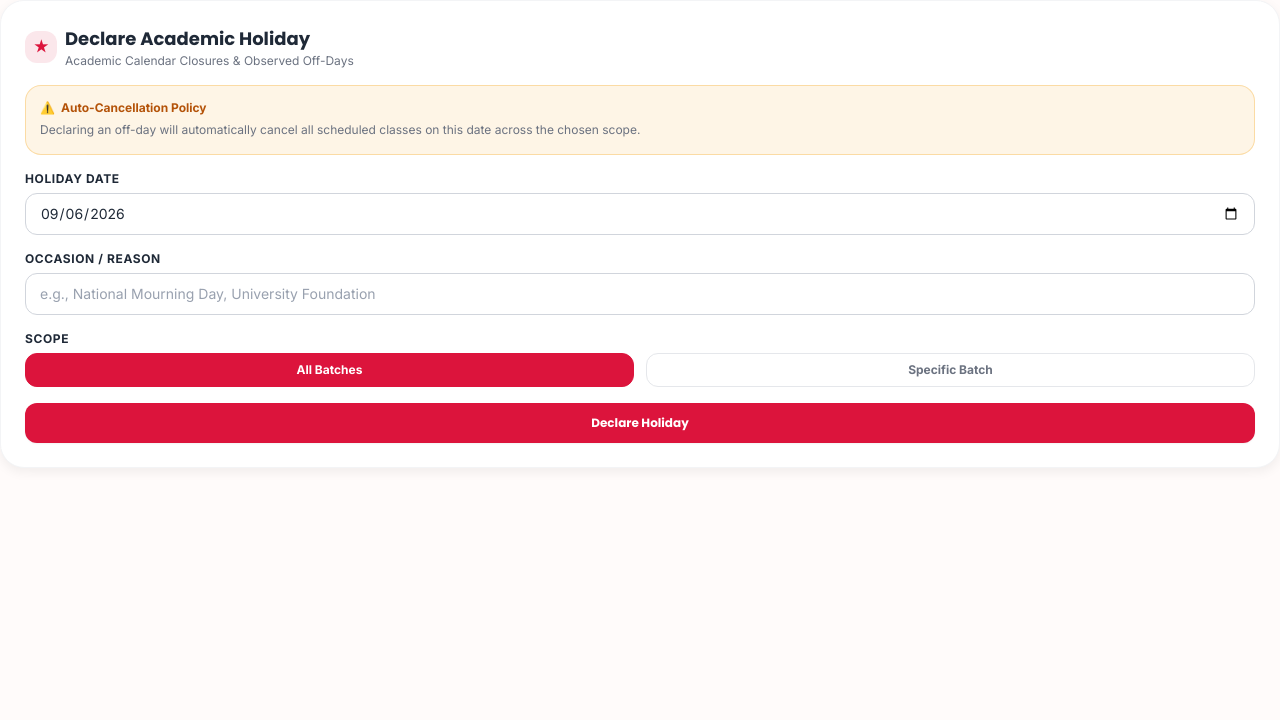
Test case: HolidayDeclarationForm Component › submits holiday declaration successfully
In the field labelled "Occasion / Reason": (640, 294) [25,272,1255,314], type "Foundation Day"
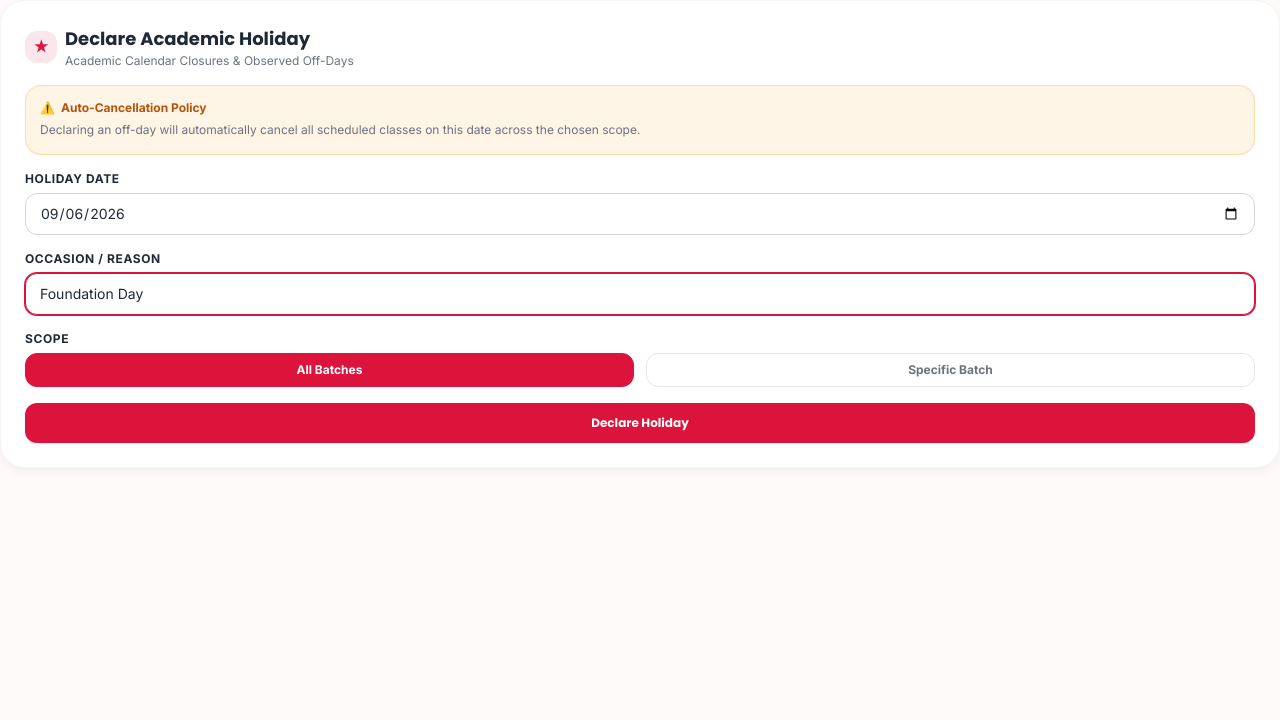
Click the button "Declare Holiday": (640, 422) [25,402,1255,442]
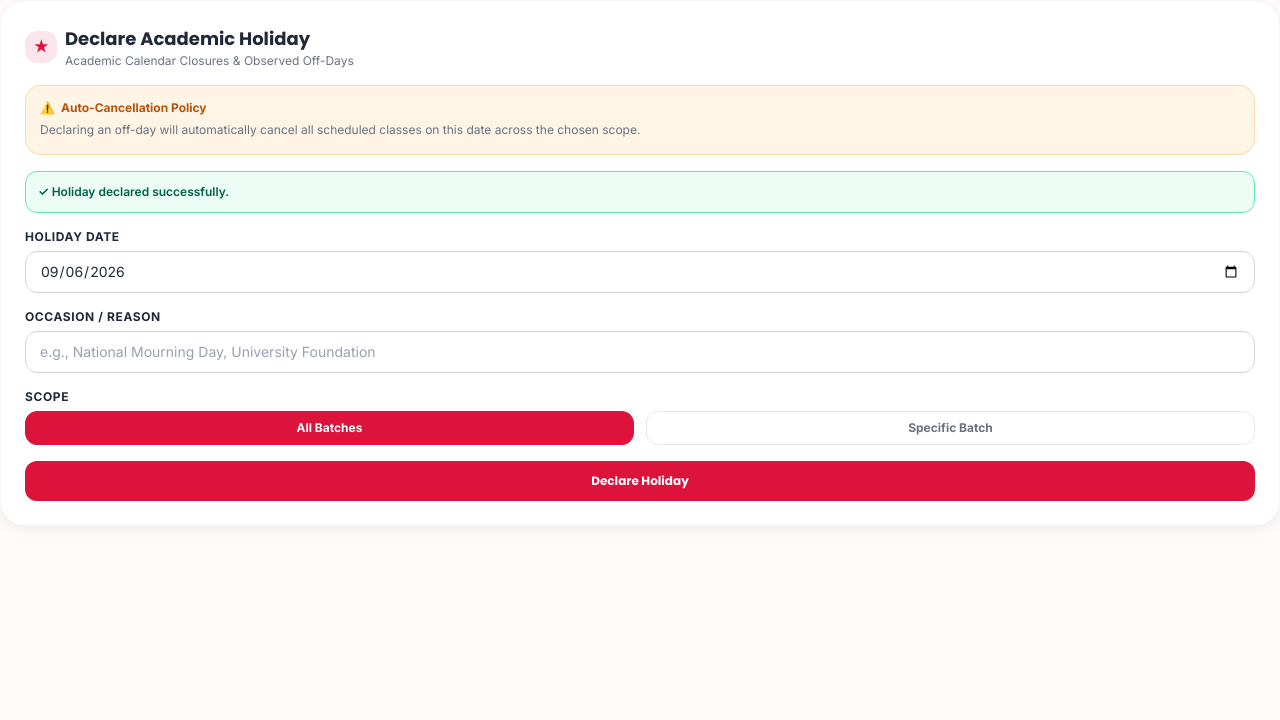
Expected: the text "✓ Holiday declared successfully." is shown, [25,170,1255,212]
